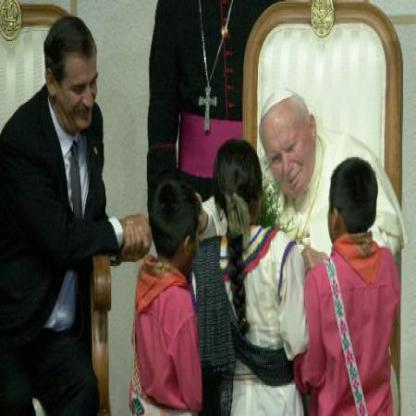face: (265, 92, 313, 199), (56, 27, 102, 136)
